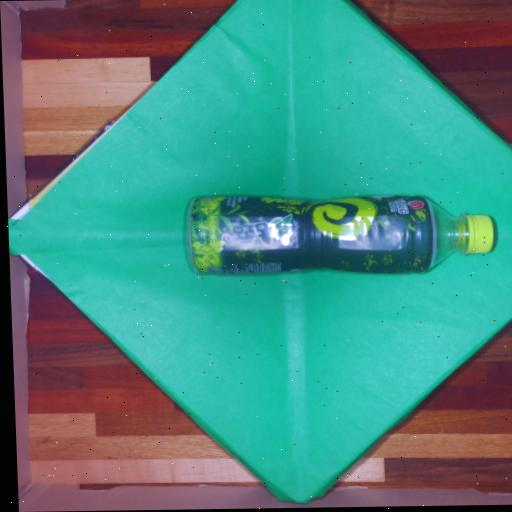bottle: (168, 178, 505, 290)
